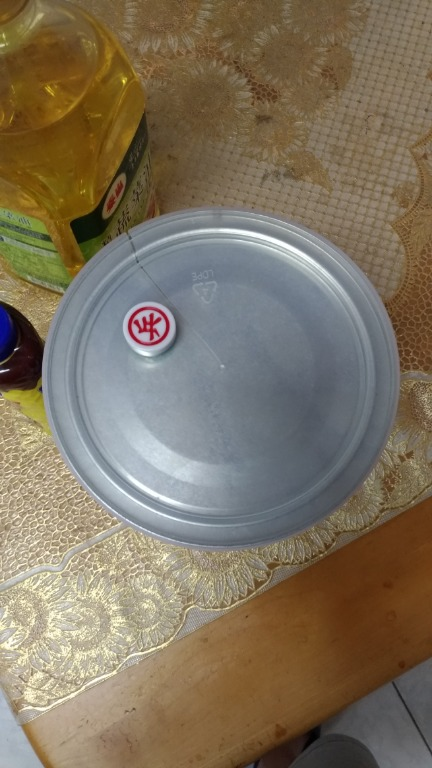r-pawn: (112, 299, 189, 369)
